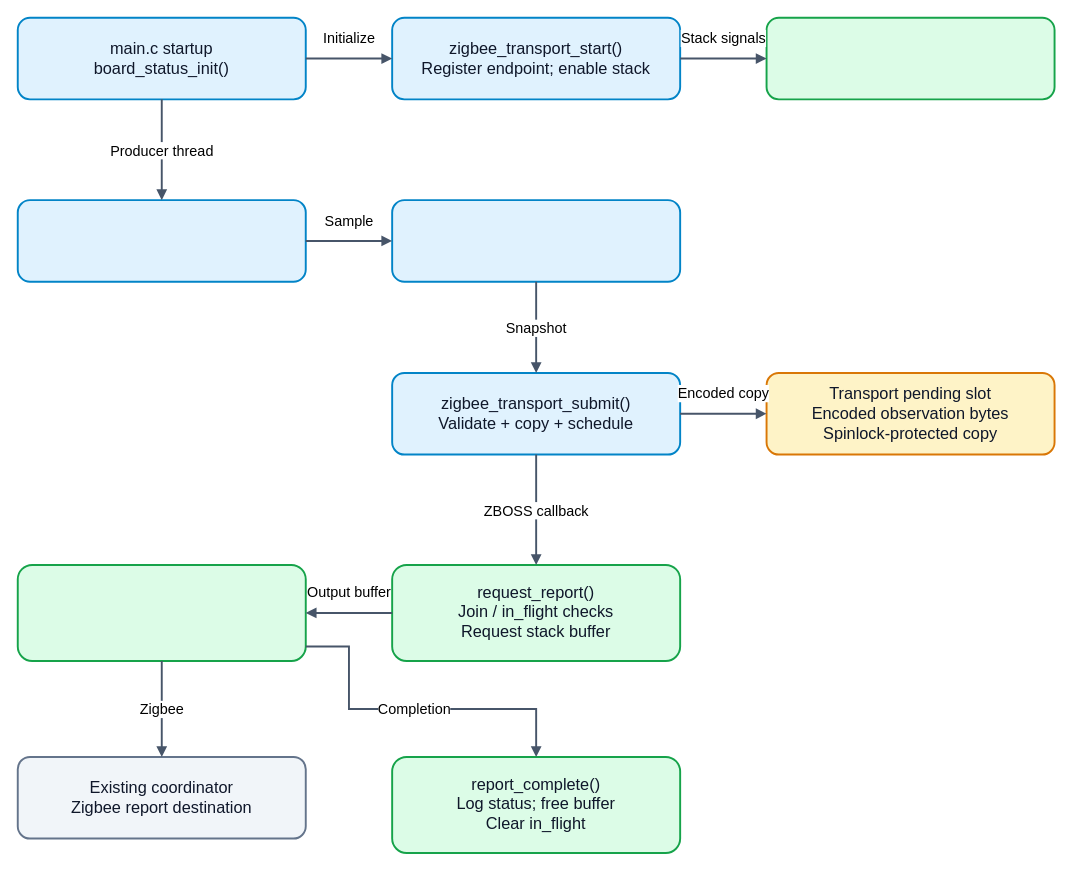
Some shapes in this 1071 by 870 pixel diagram are drawn without their labels. The shapes that lost their labels are listed below. From the top down, each one's centre as x and y in pixels, then its label:
At [910,58]: "zboss_signal_handler() joined flag + board status".
At [161,240]: "main.c periodic loop Generate → submit → sleep".
At [536,240]: "simulated_source_next() Deterministic observation".
At [161,612]: "send_report() Read pending bytes Build ZCL report".
